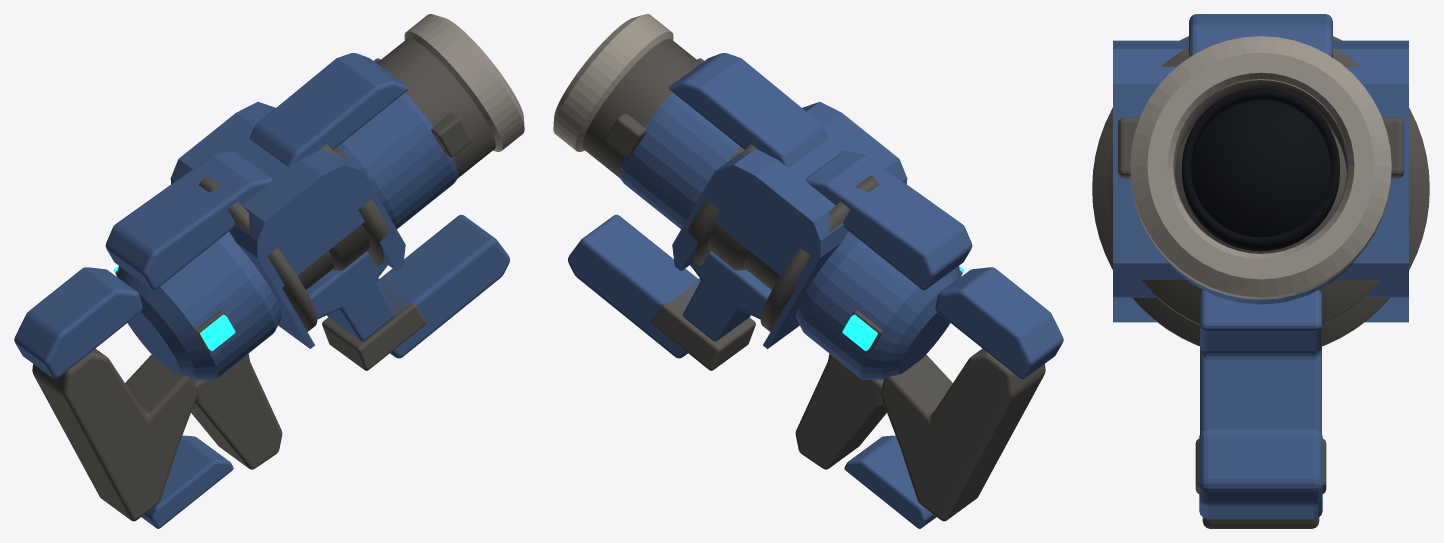
3 renders of one model, left to right at view 1: azimuth 30°, elevation 25°; view 2: azimuth 150°, elevation 25°; view 3: azimuth 270°, elevation 25°, orthographic. The views are drawn at different scales.
Parts seen in each view (by area): view 1: cannon.armor.mid_shell__LOD0, cannon.stock.rear__LOD0, cannon.armor.rear_shell__LOD0, cannon.top.spine.rear__LOD0, cannon.top.spine.front__LOD0, cannon.lower.module__LOD0, cannon.armor.front_shell__LOD0, cannon.stock.upper__LOD0, cannon.barrel.primary__LOD0, cannon.grip.main__LOD0, cannon.muzzle.ring__LOD0, cannon.lower.bridge__LOD0 (+7 smaller); view 2: cannon.armor.mid_shell__LOD0, cannon.stock.rear__LOD0, cannon.armor.rear_shell__LOD0, cannon.top.spine.rear__LOD0, cannon.top.spine.front__LOD0, cannon.lower.module__LOD0, cannon.armor.front_shell__LOD0, cannon.stock.upper__LOD0, cannon.barrel.primary__LOD0, cannon.grip.main__LOD0, cannon.muzzle.ring__LOD0, cannon.lower.bridge__LOD0 (+7 smaller); view 3: cannon.muzzle.ring__LOD0, cannon.armor.mid_shell__LOD0, cannon.lower.bridge__LOD0, cannon.muzzle.backplate__LOD0, cannon.lower.module__LOD0, cannon.band.mid__LOD0, cannon.muzzle.liner__LOD0, cannon.band.front__LOD0, cannon.top.spine.front__LOD0, cannon.barrel.primary__LOD0, cannon.body.core__LOD0, cannon.grip.main__LOD0 (+4 smaller).
Part boxes in pixels (left/top/right/bottom): cannon.armor.mid_shell__LOD0: left=170, top=102, right=405, bottom=348; cannon.stock.rear__LOD0: left=32, top=348, right=197, bottom=521; cannon.armor.rear_shell__LOD0: left=116, top=231, right=281, bottom=379; cannon.top.spine.rear__LOD0: left=105, top=150, right=272, bottom=290; cannon.top.spine.front__LOD0: left=249, top=53, right=408, bottom=166; cannon.lower.module__LOD0: left=377, top=214, right=509, bottom=358; cannon.armor.front_shell__LOD0: left=338, top=93, right=458, bottom=228; cannon.stock.upper__LOD0: left=14, top=267, right=142, bottom=378; cannon.barrel.primary__LOD0: left=329, top=38, right=495, bottom=270; cannon.grip.main__LOD0: left=191, top=354, right=282, bottom=469; cannon.muzzle.ring__LOD0: left=404, top=14, right=524, bottom=151; cannon.lower.bridge__LOD0: left=306, top=251, right=394, bottom=341; cannon.armor.mid_shell__LOD0: left=672, top=102, right=907, bottom=348; cannon.stock.rear__LOD0: left=880, top=348, right=1045, bottom=521; cannon.armor.rear_shell__LOD0: left=796, top=231, right=961, bottom=379; cannon.top.spine.rear__LOD0: left=805, top=150, right=972, bottom=290; cannon.top.spine.front__LOD0: left=669, top=53, right=828, bottom=166; cannon.lower.module__LOD0: left=568, top=214, right=700, bottom=358; cannon.armor.front_shell__LOD0: left=619, top=93, right=739, bottom=228; cannon.stock.upper__LOD0: left=935, top=267, right=1063, bottom=378; cannon.barrel.primary__LOD0: left=582, top=38, right=748, bottom=270; cannon.grip.main__LOD0: left=795, top=354, right=886, bottom=469; cannon.muzzle.ring__LOD0: left=553, top=14, right=673, bottom=151; cannon.lower.bridge__LOD0: left=683, top=251, right=771, bottom=341; cannon.muzzle.ring__LOD0: left=1130, top=36, right=1391, bottom=299; cannon.armor.mid_shell__LOD0: left=1113, top=40, right=1408, bottom=322; cannon.lower.bridge__LOD0: left=1200, top=290, right=1321, bottom=433; cannon.muzzle.backplate__LOD0: left=1190, top=101, right=1331, bottom=237; cannon.lower.module__LOD0: left=1199, top=428, right=1322, bottom=519; cannon.band.mid__LOD0: left=1092, top=36, right=1429, bottom=346; cannon.muzzle.liner__LOD0: left=1182, top=88, right=1339, bottom=251; cannon.band.front__LOD0: left=1107, top=47, right=1414, bottom=324; cannon.top.spine.front__LOD0: left=1189, top=14, right=1332, bottom=57; cannon.barrel.primary__LOD0: left=1173, top=80, right=1348, bottom=253; cannon.body.core__LOD0: left=1175, top=127, right=1346, bottom=253; cannon.grip.main__LOD0: left=1202, top=517, right=1319, bottom=528.
Size of the model in its own units: 13.17 by 11.1 by 4.7.
